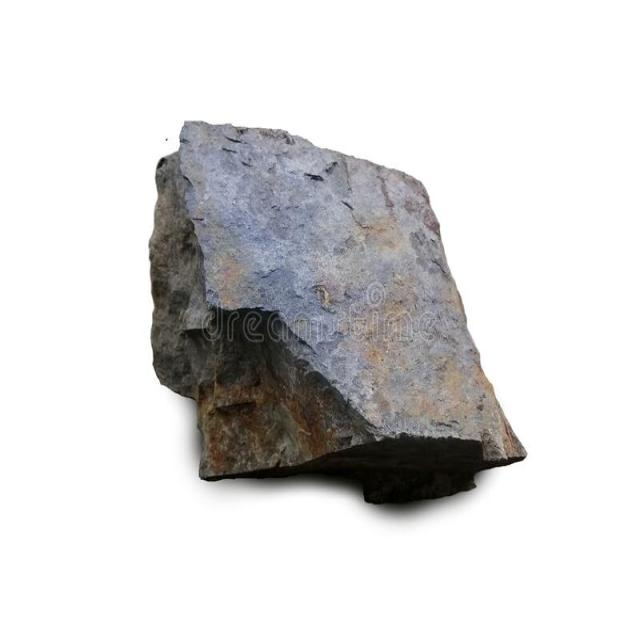Sedimentary: (131, 114, 540, 520)
